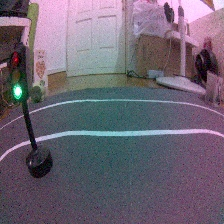green: (7, 41, 55, 179)
